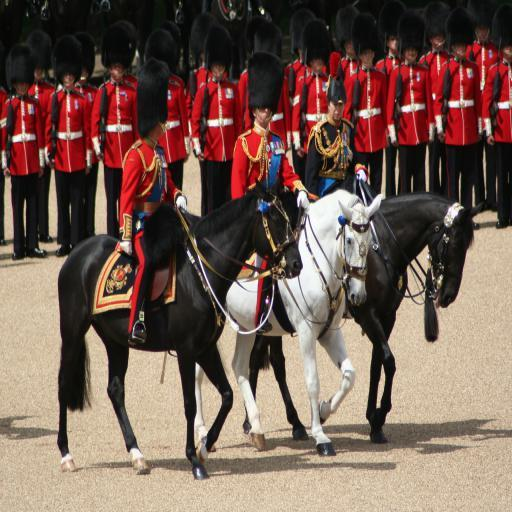horse: (54, 176, 302, 478), (240, 192, 487, 446), (194, 188, 384, 458)
